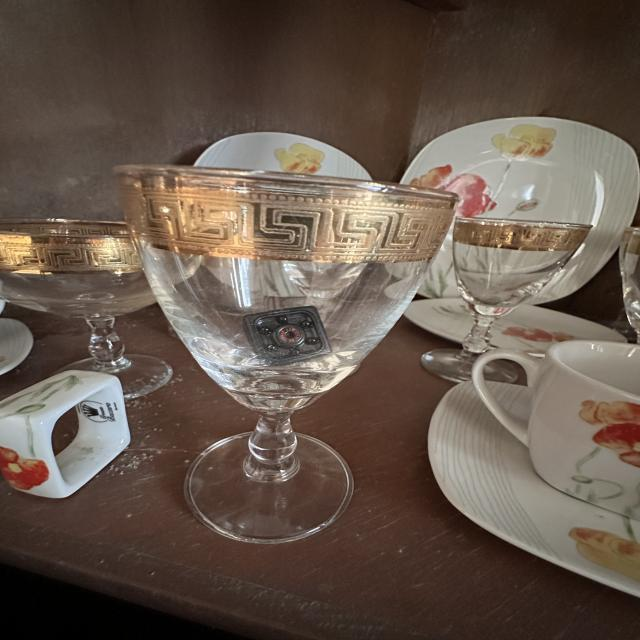hidden camera: (276, 326, 303, 345)
